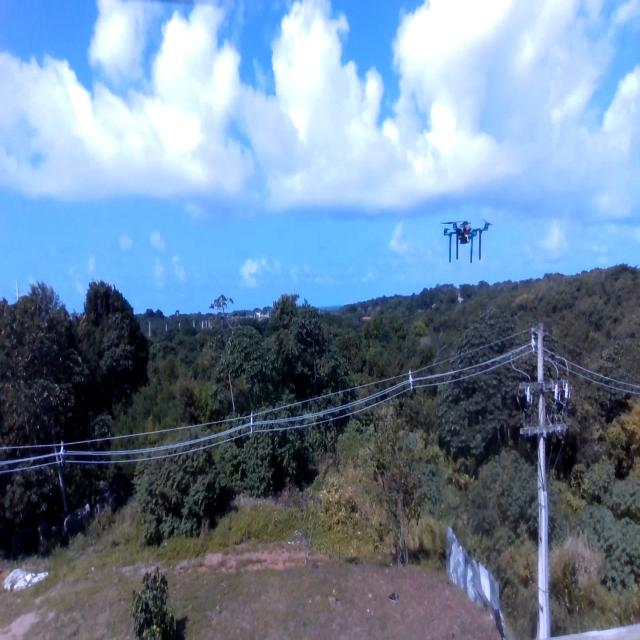-uav-: (434, 207, 497, 276)
